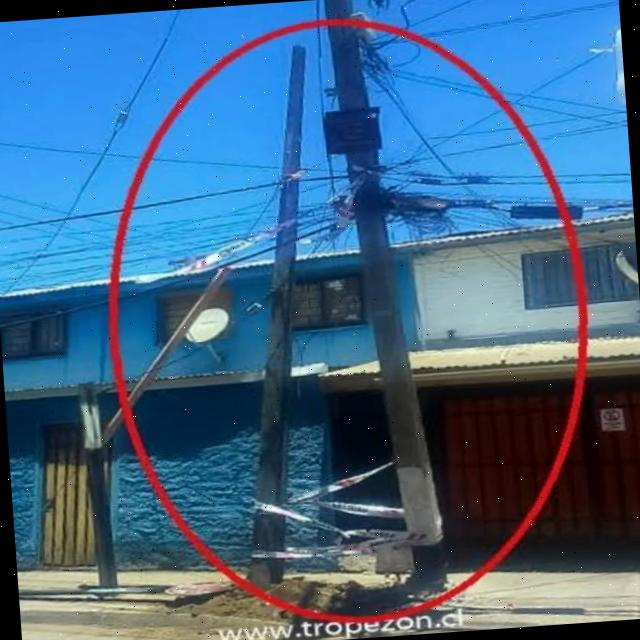Broken Pole: (310, 0, 612, 592), (211, 43, 344, 582)
